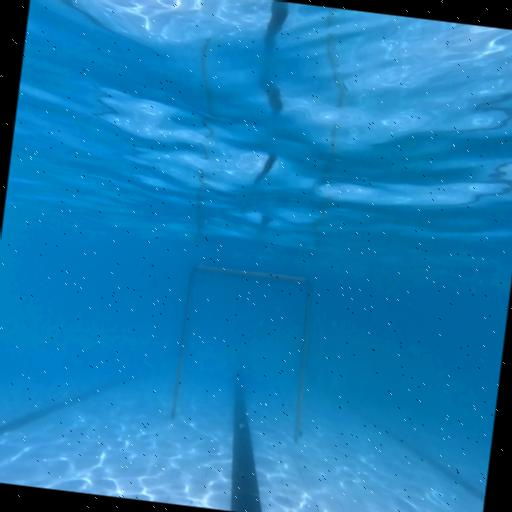gate: (170, 262, 322, 438)
